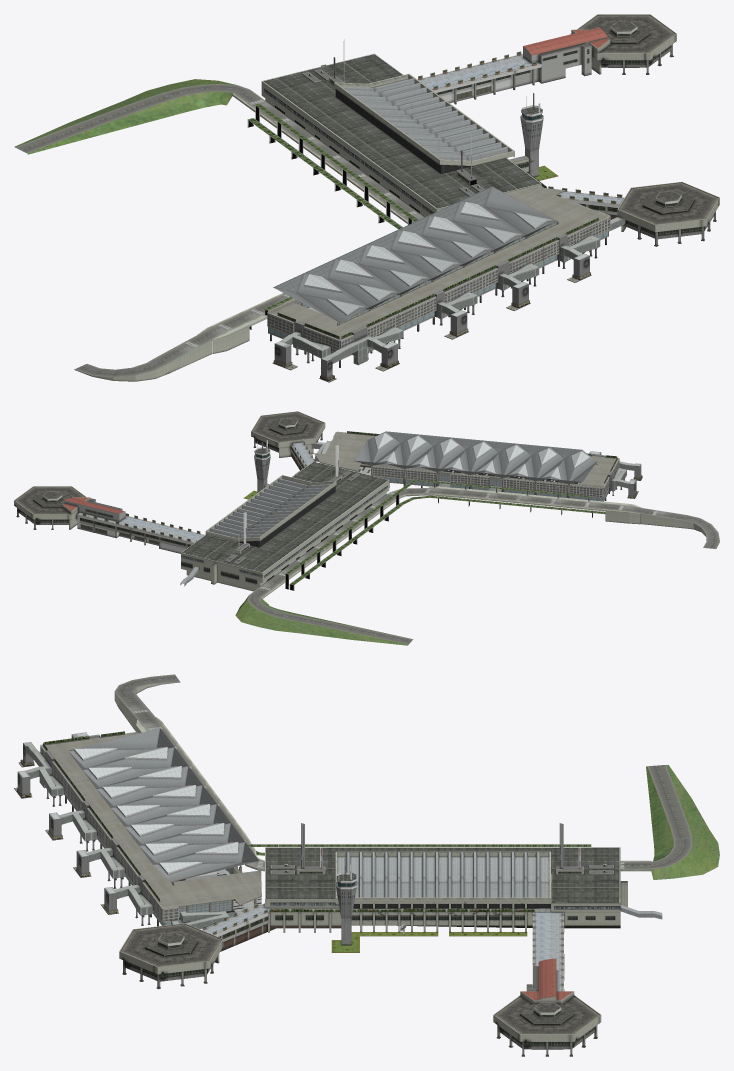
The model's file is SKCLAirport.gltf.
3 renders of one model, top to bottom at view 1: azimuth 30°, elevation 25°; view 2: azimuth 150°, elevation 25°; view 3: azimuth 270°, elevation 25°, orthographic. The views are drawn at different scales.
Parts seen in each view (by area): view 1: node3.001, node2, node2.001, node3; view 2: node3.001, node2, node2.001, node3; view 3: node3.001, node2, node2.001, node3.
Boxes of the visible parts, x1=… form: node3.001: x1=14, y1=39, x2=558, y2=381; node2: x1=267, y1=186, x2=610, y2=367; node2.001: x1=417, y1=14, x2=719, y2=246; node3: x1=247, y1=103, x2=625, y2=382; node3.001: x1=180, y1=440, x2=719, y2=645; node2: x1=314, y1=431, x2=619, y2=501; node2.001: x1=14, y1=411, x2=325, y2=553; node3: x1=285, y1=440, x2=642, y2=590; node3.001: x1=114, y1=674, x2=719, y2=952; node2: x1=40, y1=728, x2=261, y2=926; node2.001: x1=119, y1=903, x2=601, y2=1056; node3: x1=14, y1=732, x2=591, y2=929.
Bounding box in the file's own units: 436 × 44.03 × 340.
